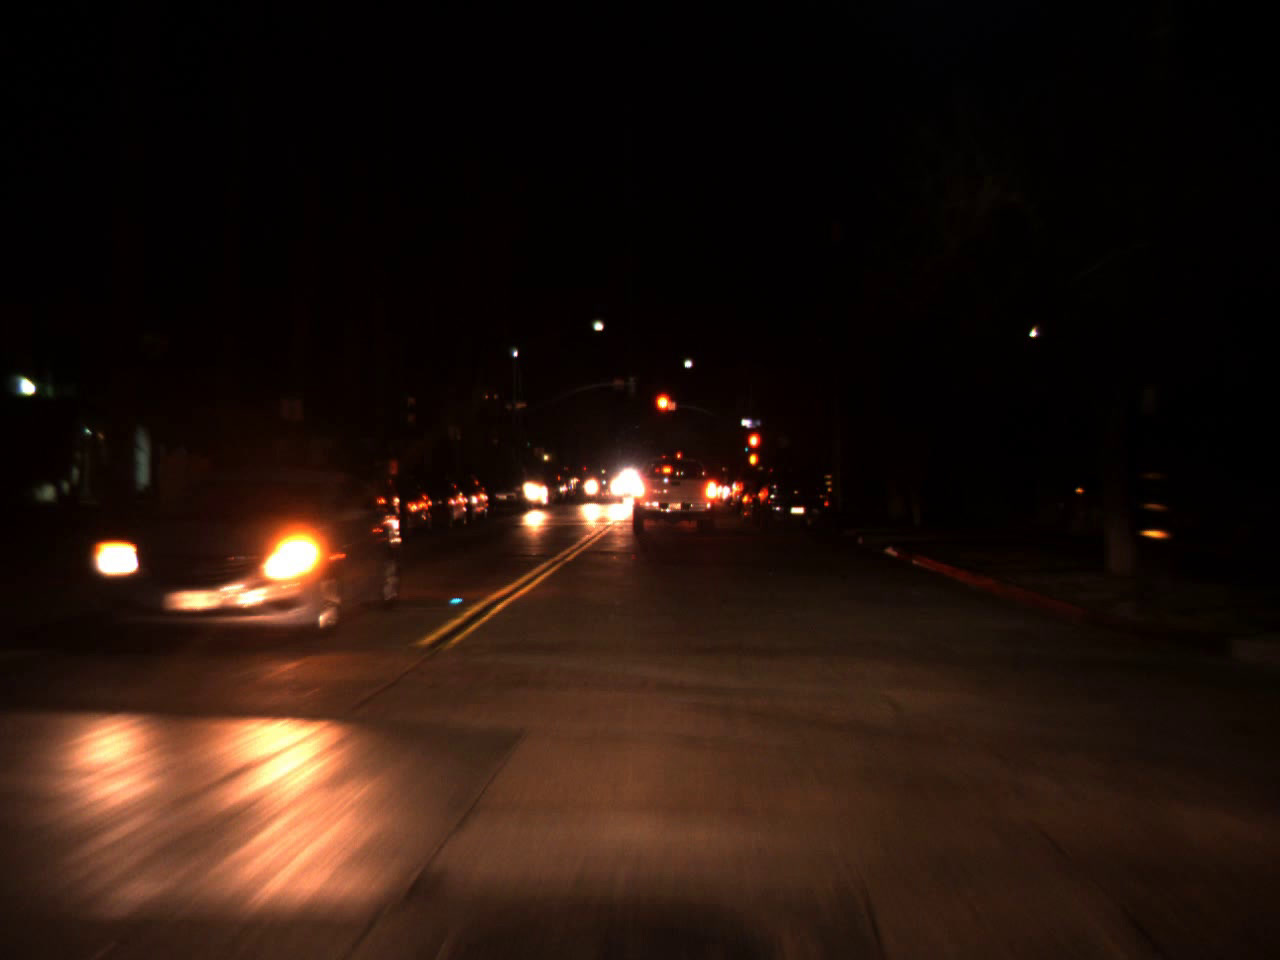stop: (651, 390, 678, 433), (745, 430, 763, 467)
